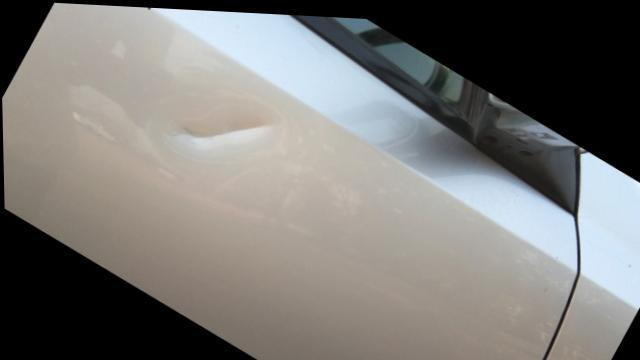dent: (163, 98, 280, 156)
